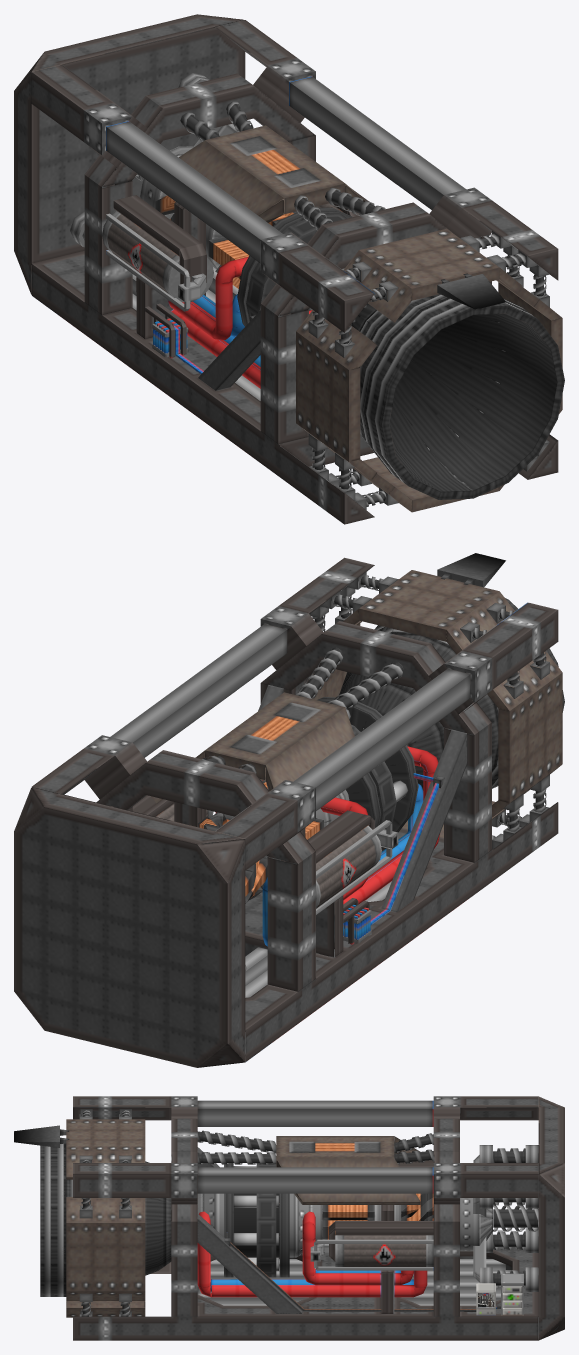
The model's file is lpw2.obj.
The picture shows the model from 3 angles, top to bottom: view 1: azimuth 30°, elevation 25°; view 2: azimuth 150°, elevation 25°; view 3: azimuth 270°, elevation 25°; orthographic projection. The views are drawn at different scales.
Visible parts, largest first — view 1: Frame, Engine, ShroudH, ShroudV, Cover, Center, Flap, SuspensionCoverFront, Piston, SuspensionCoverBack, Rotor, SuspensionTop (+1 smaller); view 2: Frame, ShroudH, Cover, ShroudV, Center, Engine, SuspensionCoverFront, Flap, Piston, TurbineFront; view 3: Frame, Center, ShroudH, Engine, Cover, ShroudV, SuspensionCoverFront, Piston, SuspensionBackOuter, SuspensionBackCenter, SuspensionCoverBack, Flap (+3 smaller).
Part boxes in pixels (x1,y1,x2,y2): Frame: (14, 14, 558, 524); Engine: (351, 294, 564, 499); ShroudH: (296, 272, 562, 479); ShroudV: (343, 228, 522, 512); Cover: (179, 125, 364, 222); Center: (140, 123, 352, 388); Flap: (437, 273, 505, 309); SuspensionCoverFront: (294, 187, 385, 230); Piston: (246, 214, 349, 321); SuspensionCoverBack: (180, 101, 253, 141); Rotor: (208, 212, 293, 288); SuspensionTop: (312, 255, 546, 344); Frame: (14, 557, 558, 1067); ShroudH: (309, 613, 562, 817); Cover: (151, 692, 354, 803); ShroudV: (343, 570, 514, 837); Center: (209, 697, 439, 970); Engine: (339, 598, 564, 790); SuspensionCoverFront: (296, 647, 403, 709); Flap: (437, 553, 505, 587); Piston: (351, 724, 396, 829); TurbineFront: (198, 814, 267, 902); Frame: (73, 1096, 564, 1340); Center: (197, 1145, 492, 1297); ShroudH: (66, 1197, 145, 1301); Engine: (40, 1143, 171, 1296); Cover: (276, 1136, 420, 1204); ShroudV: (66, 1116, 145, 1317); SuspensionCoverFront: (197, 1130, 276, 1164); Piston: (256, 1163, 276, 1277); SuspensionBackOuter: (493, 1148, 525, 1288); SuspensionBackCenter: (493, 1205, 538, 1231); SuspensionCoverBack: (394, 1133, 433, 1164); Flap: (14, 1125, 69, 1147).
Size of the model in its own units: 7 by 7.06 by 21.
